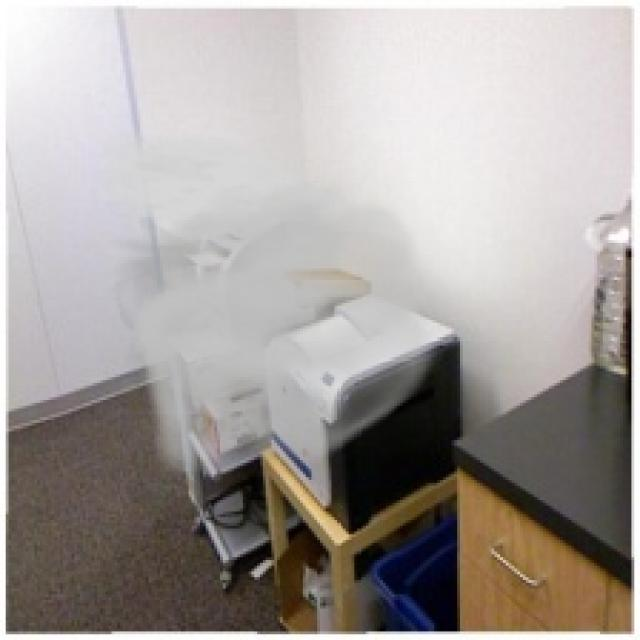smoke: (91, 126, 446, 474)
